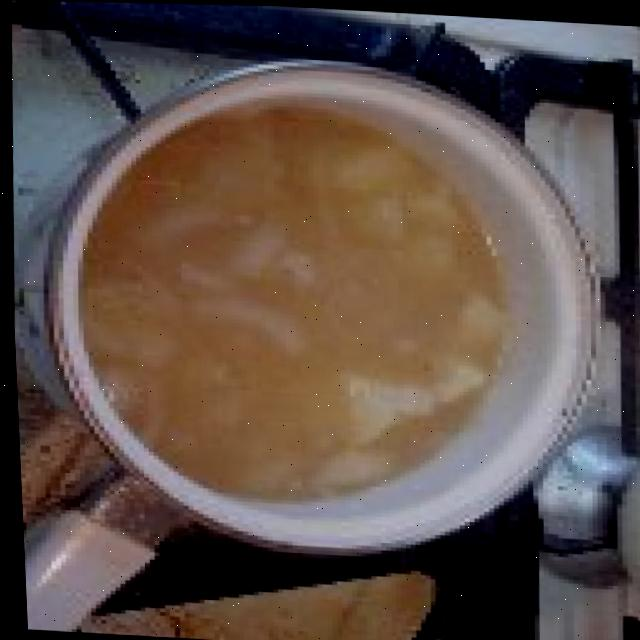汤锅炖物: (22, 39, 625, 592)
